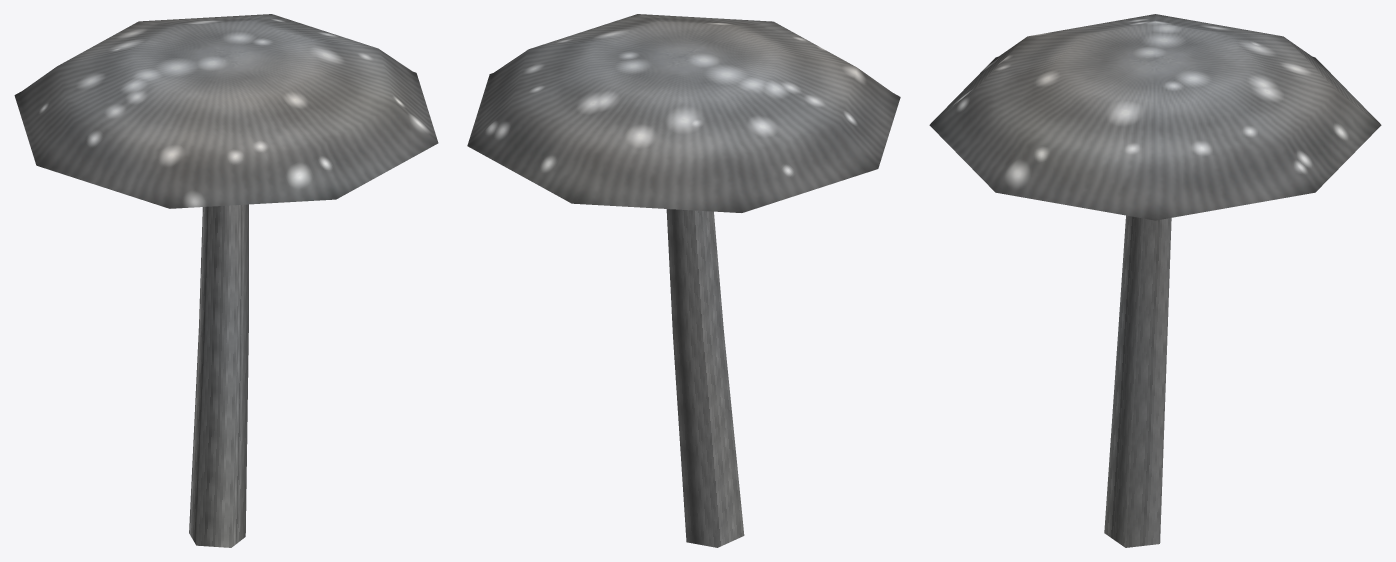
File: giant_cap_l1.gltf
3 renders of one model, left to right at view 1: azimuth 30°, elevation 25°; view 2: azimuth 150°, elevation 25°; view 3: azimuth 270°, elevation 25°, orthographic. The views are drawn at different scales.
Parts seen in each view (by area): view 1: giant_cap_l1; view 2: giant_cap_l1; view 3: giant_cap_l1.
Boxes of the visible parts, x1,y1,x2,y2 form: giant_cap_l1: (14,14,438,547); giant_cap_l1: (467,14,900,547); giant_cap_l1: (929,14,1381,547).
Bounding box in the file's own units: 6.4 × 7.6 × 6.4.
2 materials, 2 textured.
